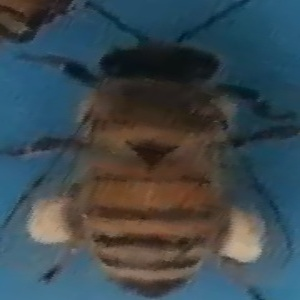bee: (50, 27, 292, 297)
